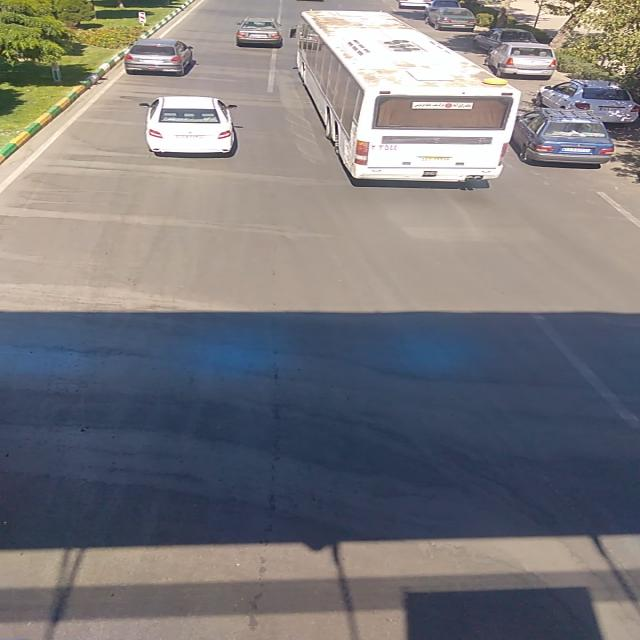bus: (289, 8, 522, 185)
car: (134, 97, 244, 159), (520, 108, 614, 166), (538, 82, 638, 124), (483, 44, 558, 80), (122, 39, 196, 74), (478, 26, 542, 52), (232, 17, 285, 47), (425, 7, 478, 30)
